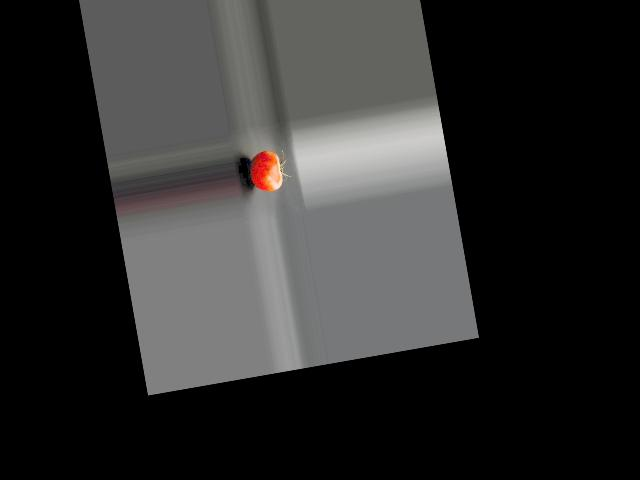tomato: (247, 149, 284, 195)
